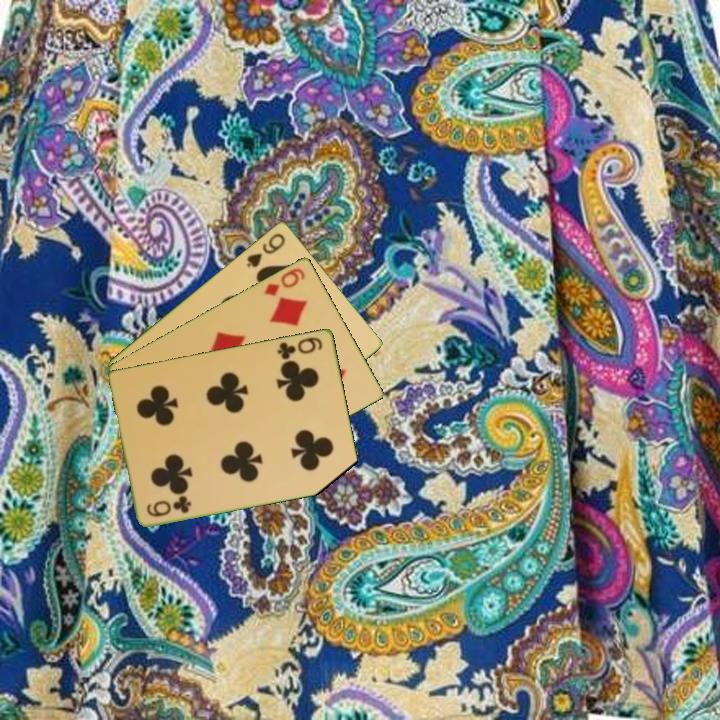6c: (274, 333, 326, 362), (143, 493, 195, 519)
6d: (261, 264, 308, 299)
9s: (243, 229, 288, 270)
